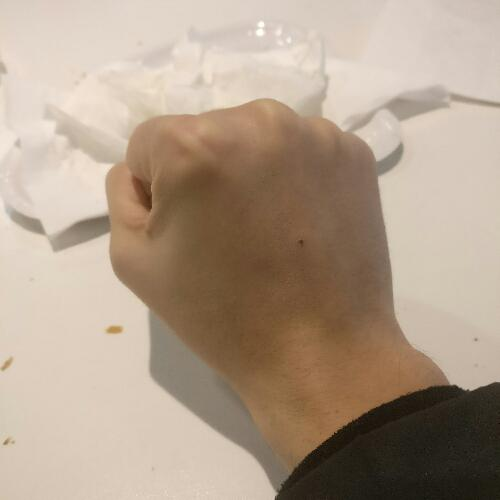rock: (90, 89, 413, 366)
